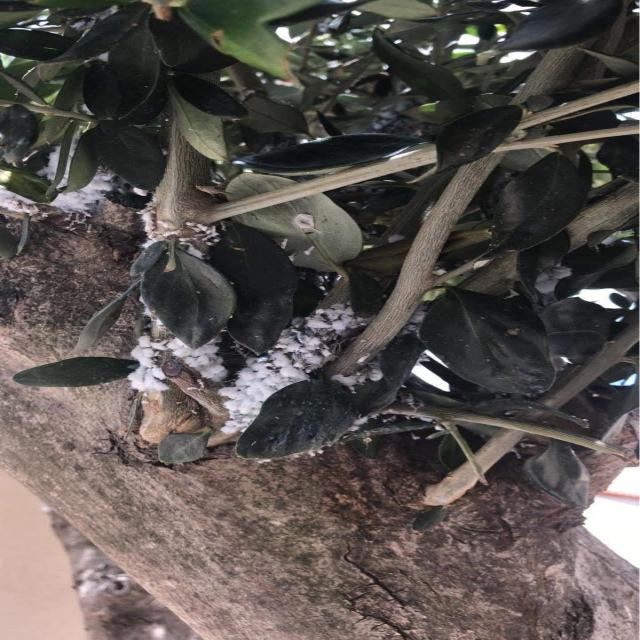Psyllid: (210, 302, 367, 446), (129, 334, 227, 392), (50, 166, 129, 226), (138, 202, 218, 258), (324, 355, 383, 396), (0, 184, 47, 220), (37, 146, 58, 180)
